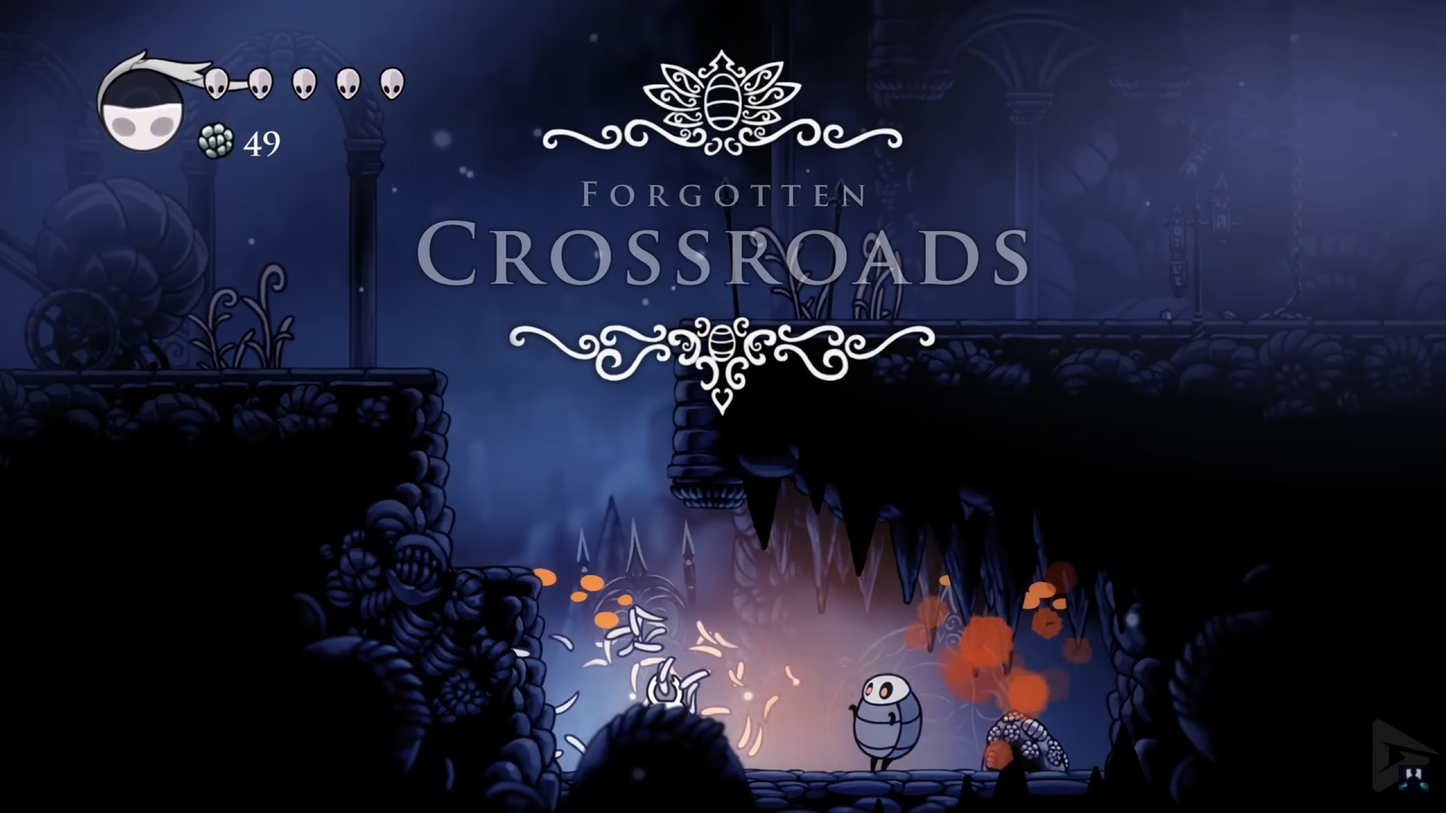HK: (638, 669, 692, 714)
